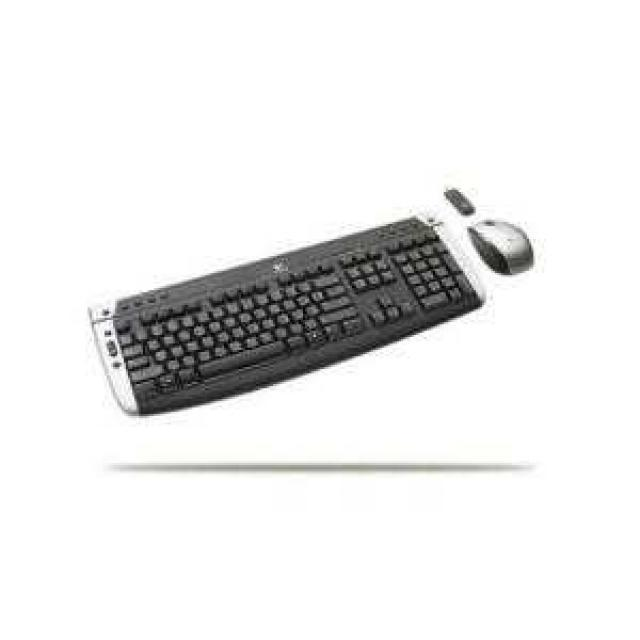keyboard: (84, 208, 489, 425)
